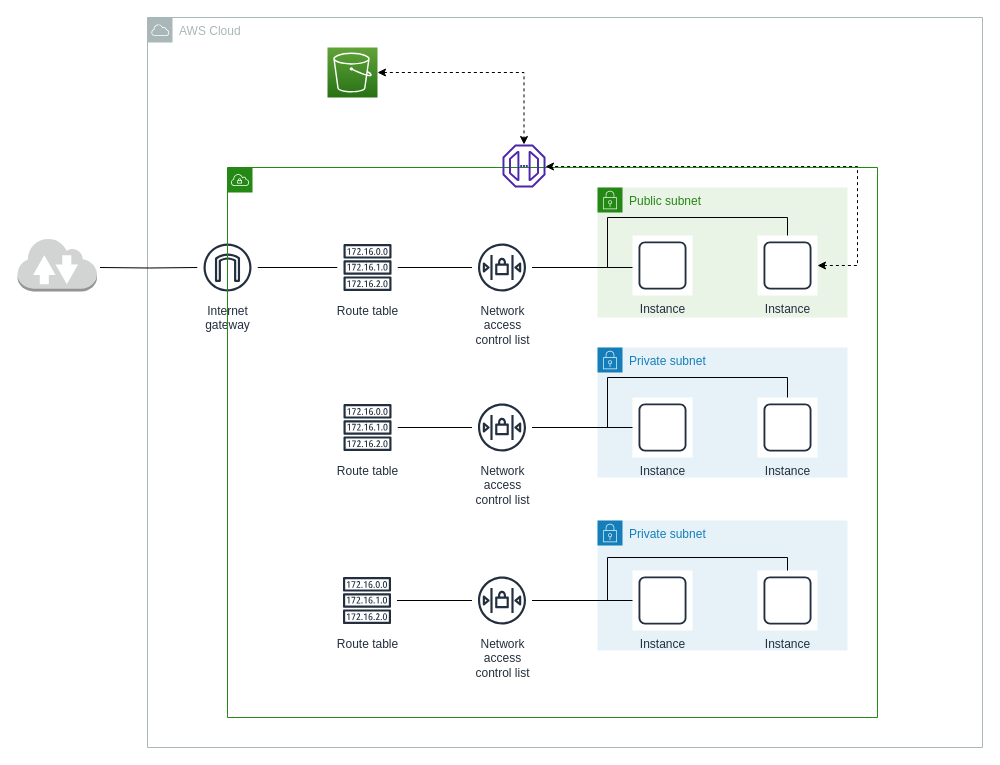
Some shapes in this 1000 by 765 pixel diagram are drawn without their labels. The box of each missing label's shape, as (x1, y1, x2, y2) in pixels:
Endpoint: (502, 144, 545, 187)
Internet: (16, 236, 97, 292)
S3: (326, 46, 378, 98)
VPC: (226, 166, 878, 718)
